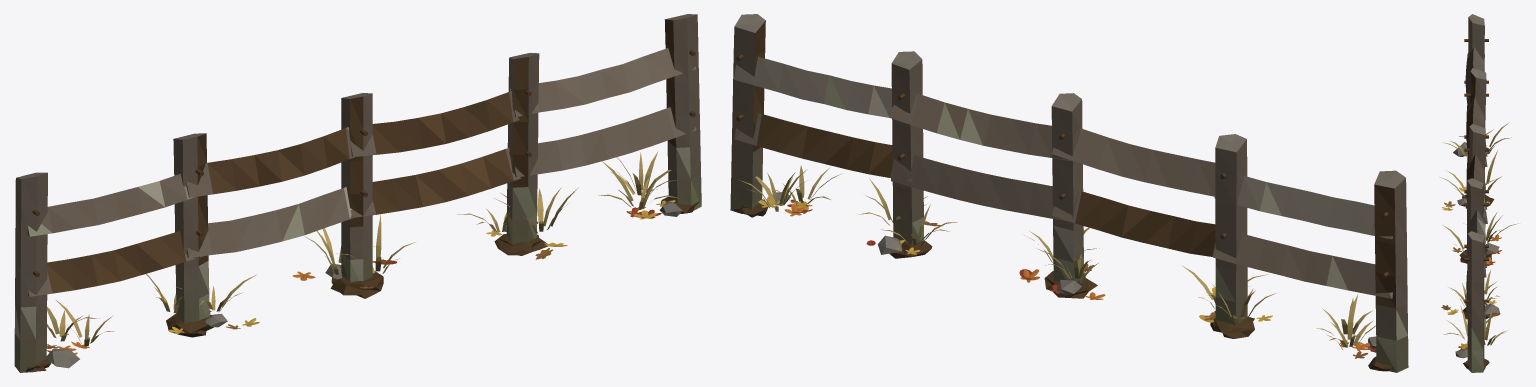
The model's file is split-rail-fence.glb.
3 views of the same model, side by side, from view 1: azimuth 30°, elevation 25°; view 2: azimuth 150°, elevation 25°; view 3: azimuth 270°, elevation 25° (orthographic). The views are drawn at different scales.
Visible parts, largest first — view 1: split_rail_fence; view 2: split_rail_fence; view 3: split_rail_fence.
Part boxes in pixels (box(x1,y1,x2,y2)): split_rail_fence: box(14, 14, 701, 372); split_rail_fence: box(730, 14, 1408, 372); split_rail_fence: box(1440, 14, 1518, 372).
Size of the model in its own units: 3.98 by 1.12 by 0.6261.
